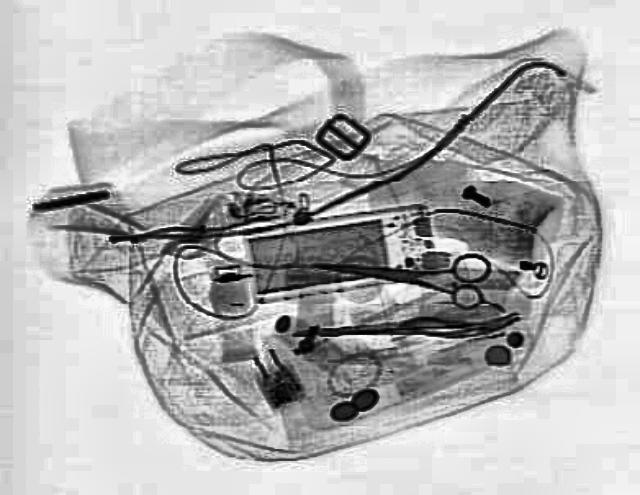Scissors: (306, 236, 490, 308)
